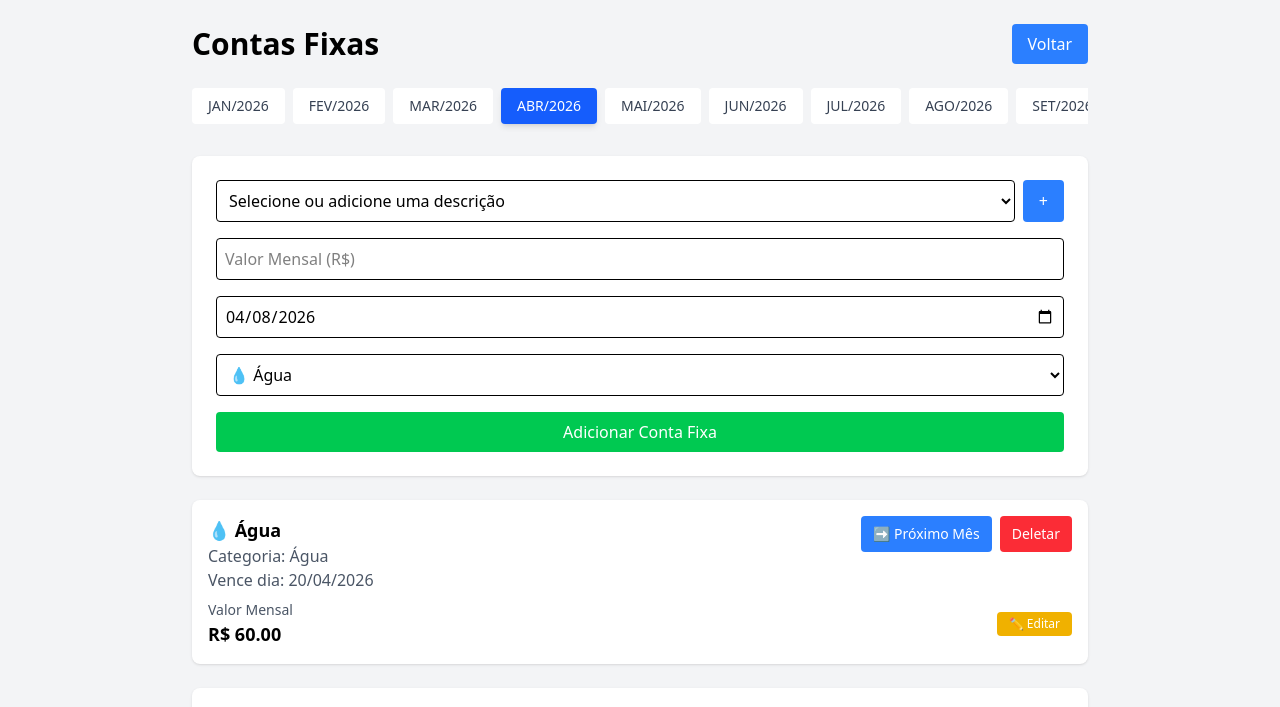
Test: FixedBills Page › Deve mostrar mensagem quando não há contas no mês selecionado
Click the button "JUN/2026" at (756, 106), box [709,88,802,124]
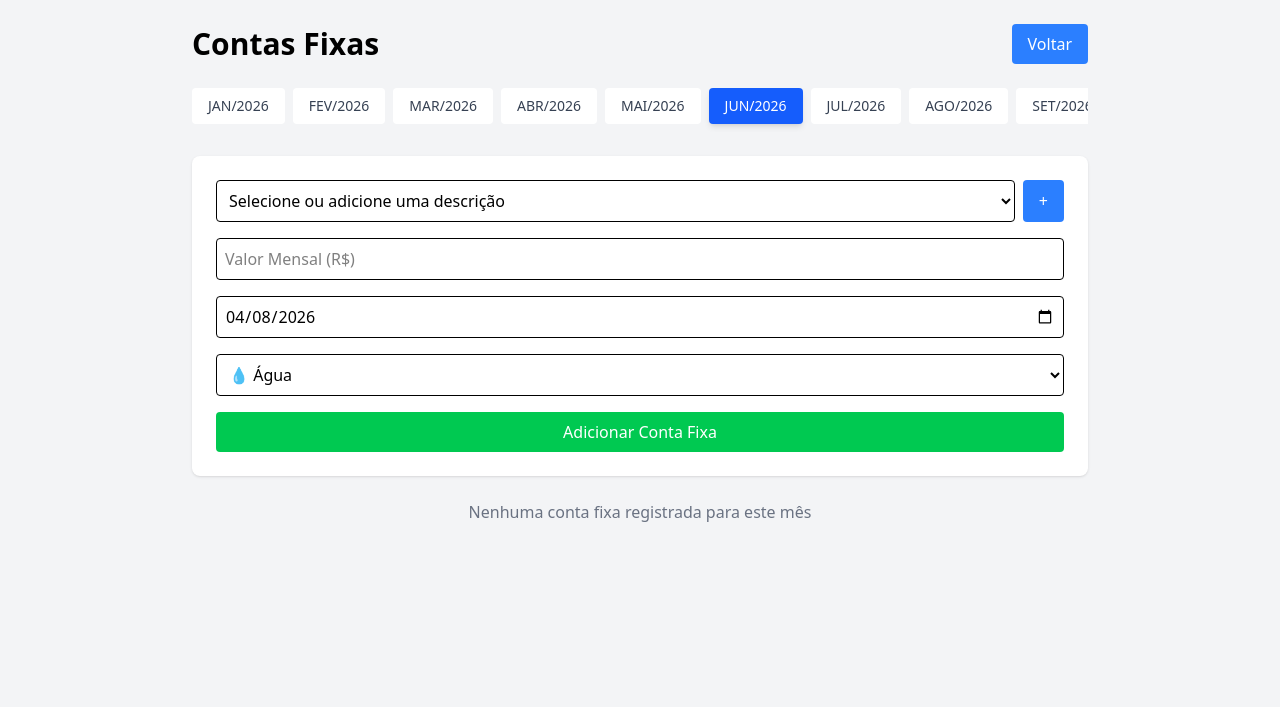
Expected: the text "Nenhuma conta fixa registrada para este mês" is shown, [469,501,811,523]
